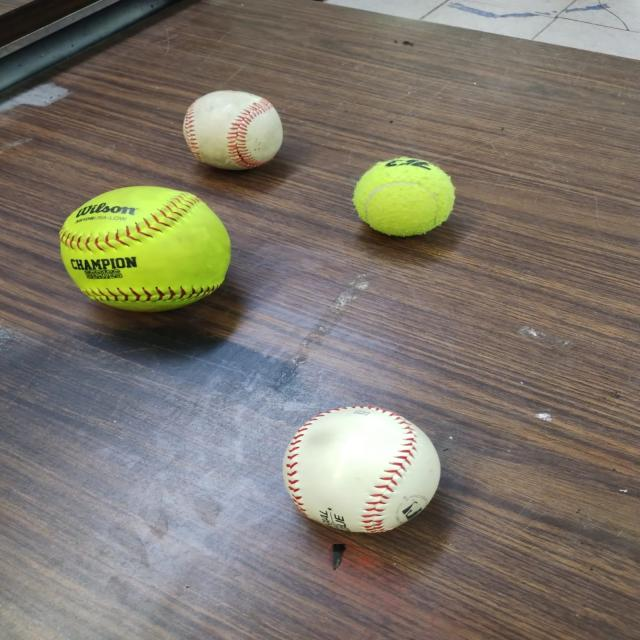beisbol ball: (282, 402, 444, 538), (183, 90, 284, 170)
softball ball: (57, 186, 231, 309)
tenis ball: (350, 157, 457, 237)
